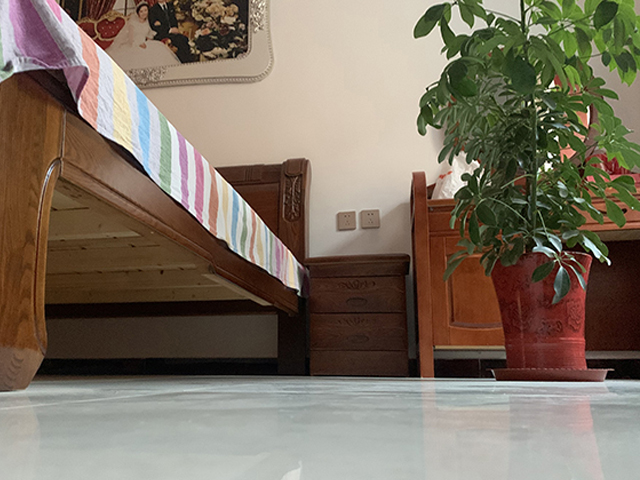bed: (1, 1, 312, 394)
cabinet: (304, 253, 412, 378)
table: (410, 171, 640, 380)
